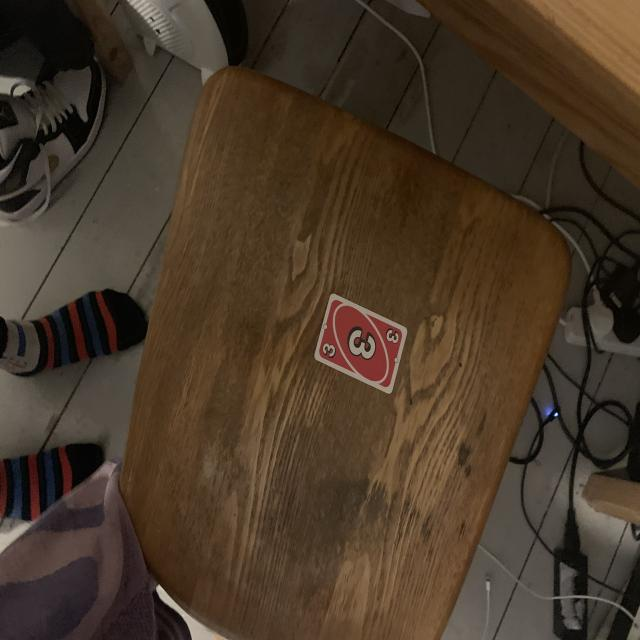lred-3: (320, 331, 340, 363)
